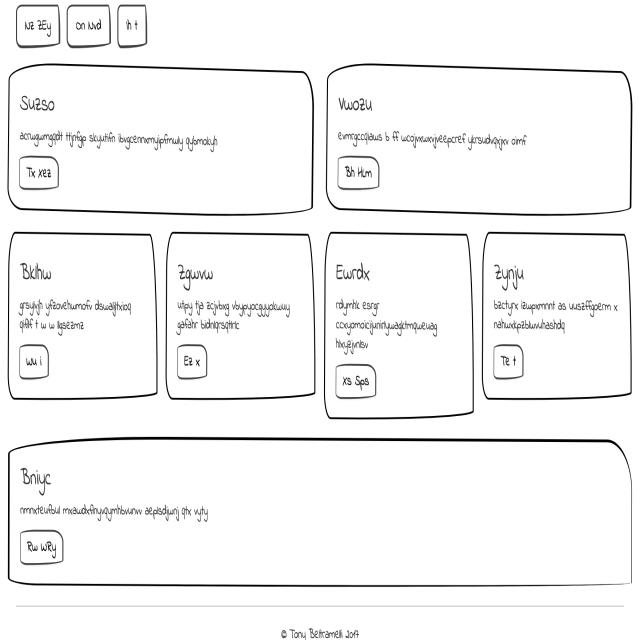Button: (333, 153, 386, 198), (14, 527, 69, 569), (14, 152, 64, 193), (334, 364, 378, 406), (491, 339, 528, 386), (173, 340, 211, 385), (17, 339, 50, 383)
Card: (6, 432, 632, 594), (321, 64, 632, 218), (7, 65, 313, 217), (326, 227, 474, 418), (165, 223, 315, 404), (480, 225, 630, 404), (4, 225, 158, 399)
Footer: (3, 601, 640, 640)
Heading 6: (174, 246, 215, 294), (335, 82, 382, 121), (332, 252, 374, 290), (12, 87, 61, 119), (15, 460, 60, 494), (16, 255, 59, 286), (492, 259, 526, 294)
Navigation Bar: (11, 0, 166, 55)
Paragraph: (335, 297, 449, 356), (14, 122, 230, 150), (489, 295, 622, 338), (14, 291, 138, 335), (334, 125, 530, 152), (173, 296, 295, 334), (14, 500, 214, 523)
